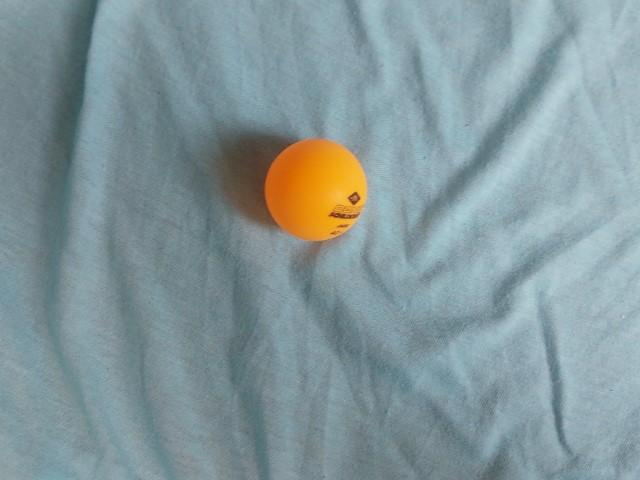oball: (256, 133, 379, 246)
